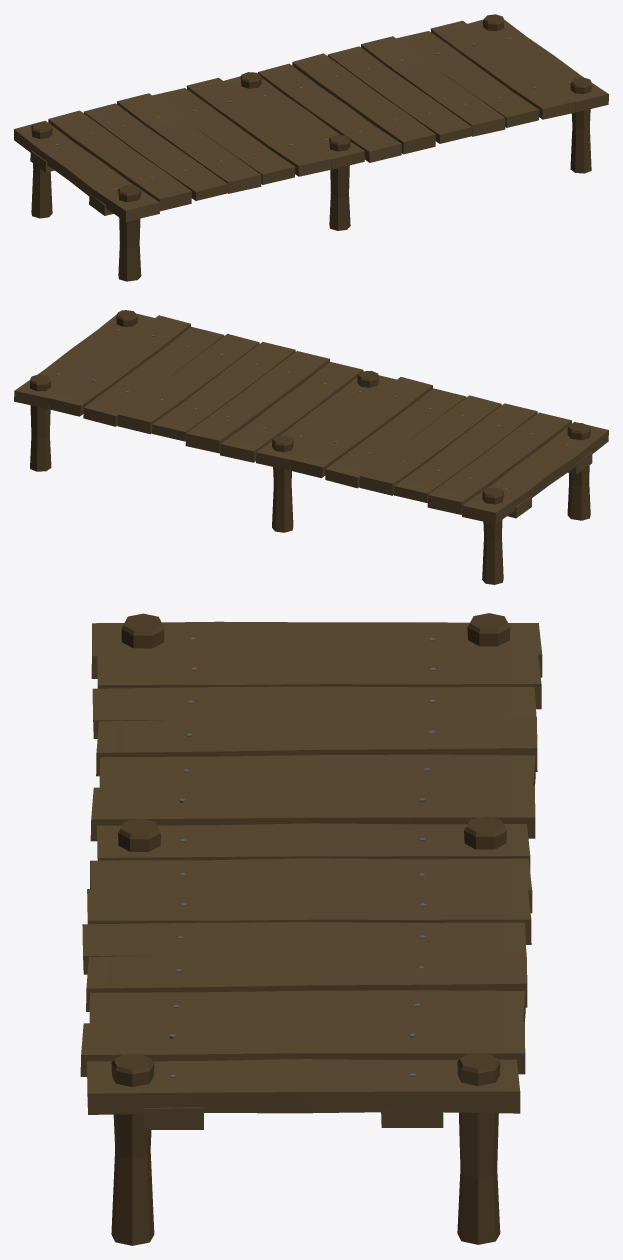
The picture shows the model from 3 angles, top to bottom: view 1: azimuth 30°, elevation 25°; view 2: azimuth 150°, elevation 25°; view 3: azimuth 270°, elevation 25°; orthographic projection. The views are drawn at different scales.
Parts seen in each view (by area): view 1: Dock_Big_Nails_Cylinder200; view 2: Dock_Big_Nails_Cylinder200; view 3: Dock_Big_Nails_Cylinder200.
Part boxes in pixels (left/top/right/bottom): Dock_Big_Nails_Cylinder200: left=14, top=14, right=608, bottom=281; Dock_Big_Nails_Cylinder200: left=14, top=310, right=608, bottom=584; Dock_Big_Nails_Cylinder200: left=80, top=613, right=542, bottom=1245.
Bounding box in the file's own units: 2.04 × 0.352 × 0.841.
Materials: 1 (1 with a texture image).
